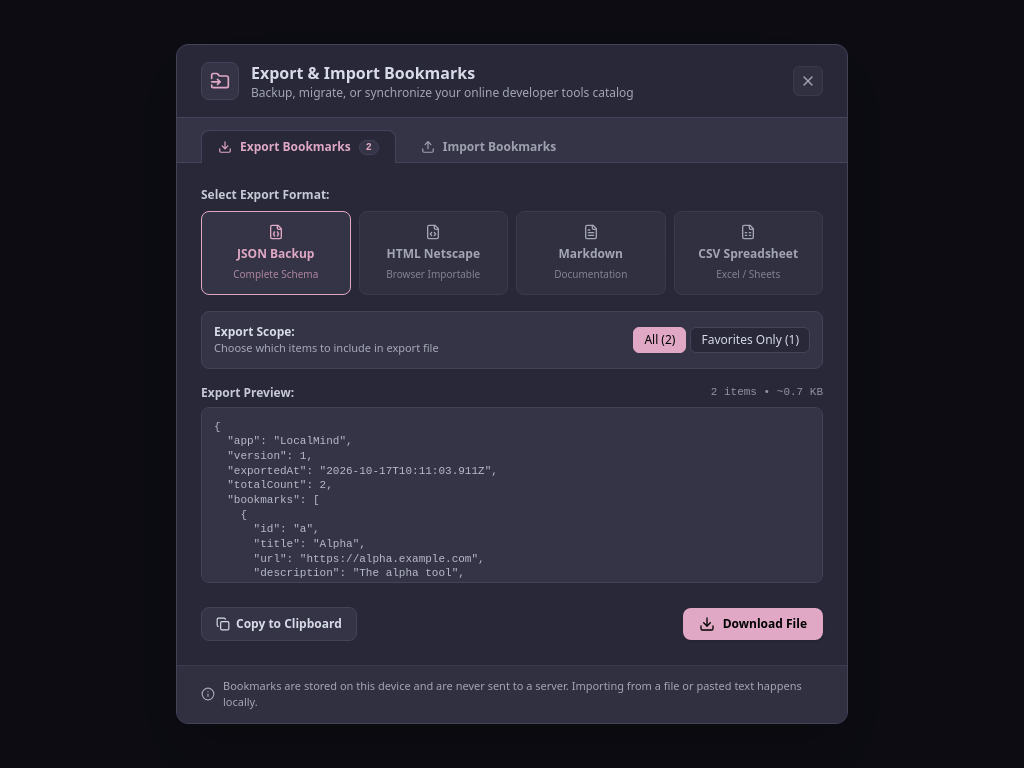
Scenario: export tab › exports only favorites when asked
The image size is (1024, 768).
Click the button "Favorites Only (1)" at (750, 340), box [690,327,810,353]
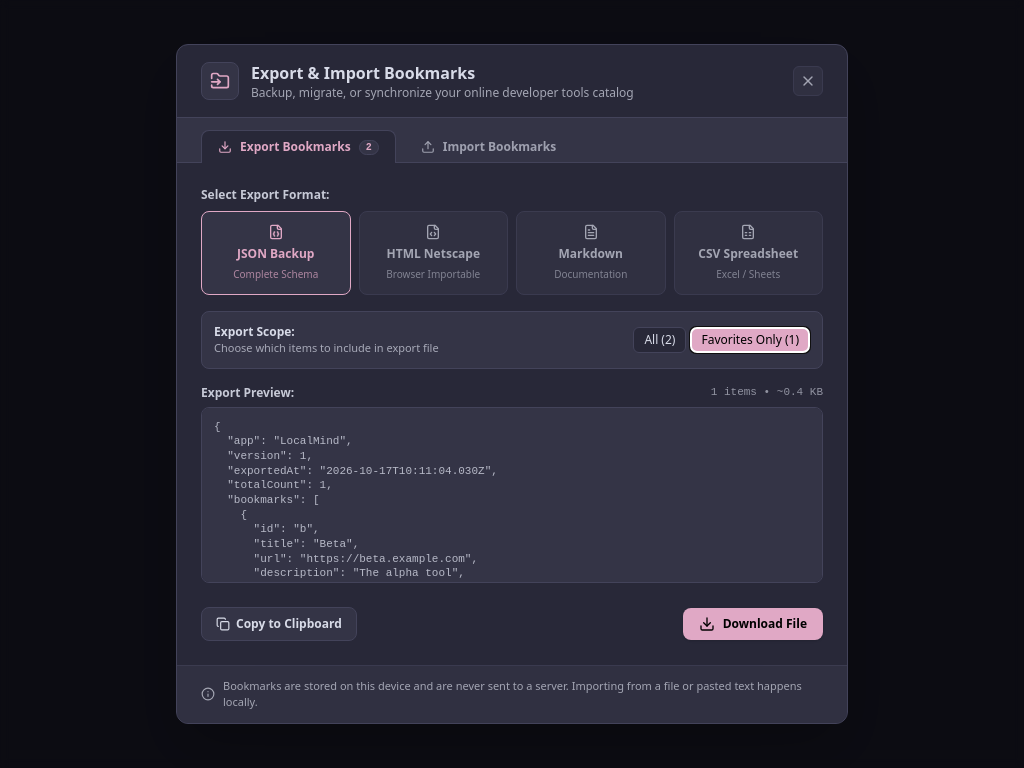
Check: the text "1 items • ~0.4 KB" is shown, box [711,385,823,400]
